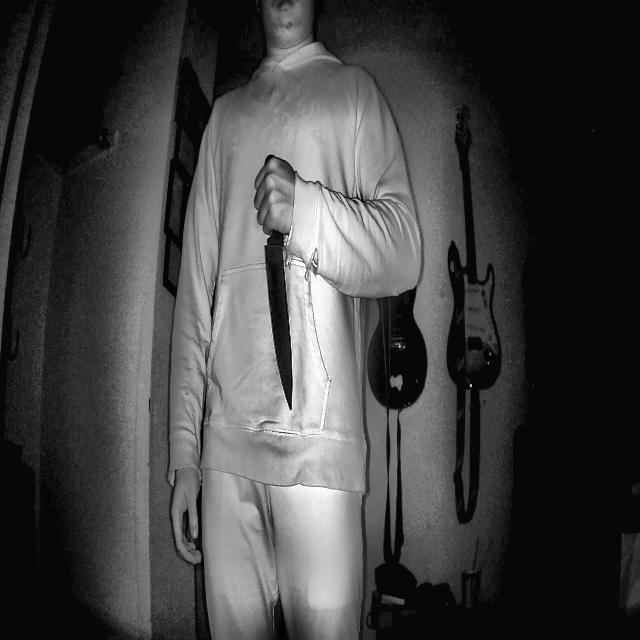knife: (248, 140, 306, 420)
